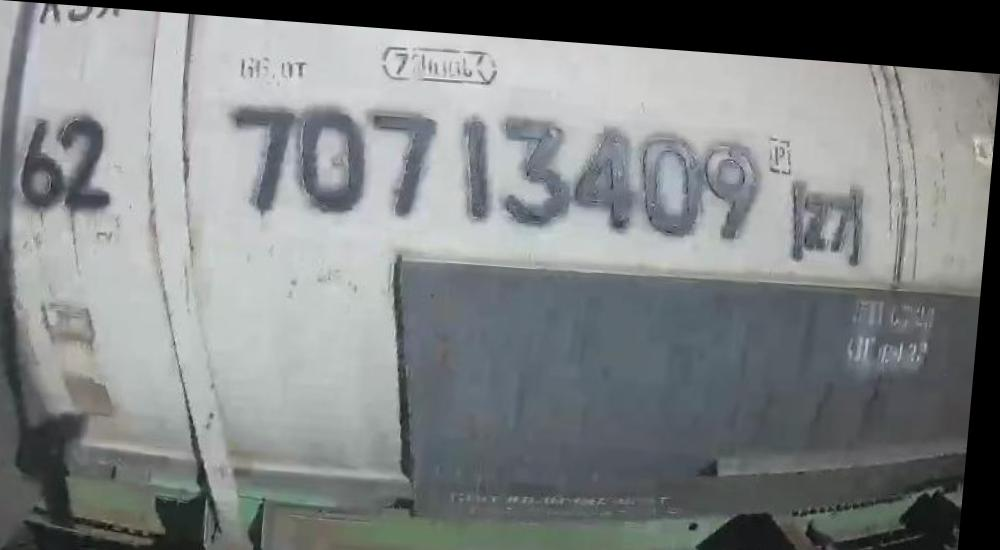Wagon-number: (230, 91, 771, 240)
